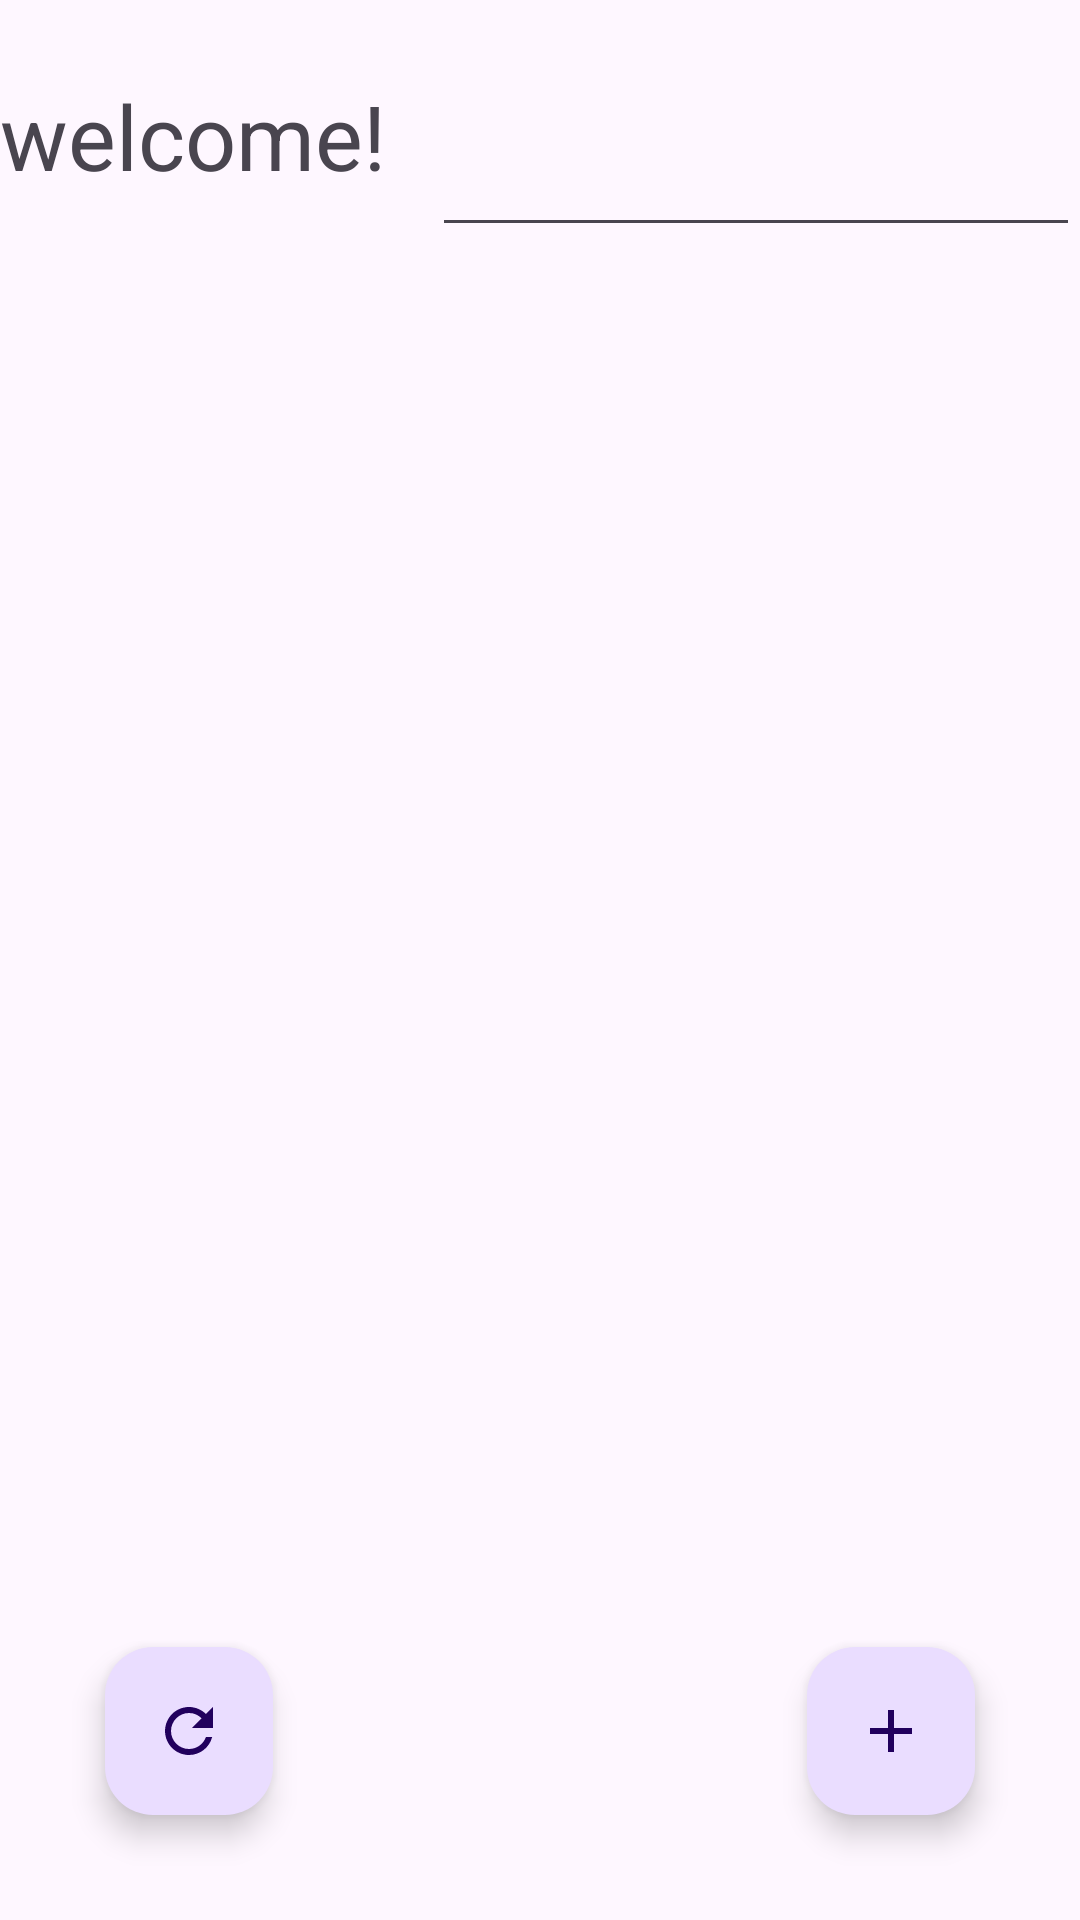

Icons on this 1080*1920 Android screen, each with its box as (x1, y1, x2, y2):
add: (807, 1647, 975, 1815)
refresh: (105, 1647, 273, 1815)
